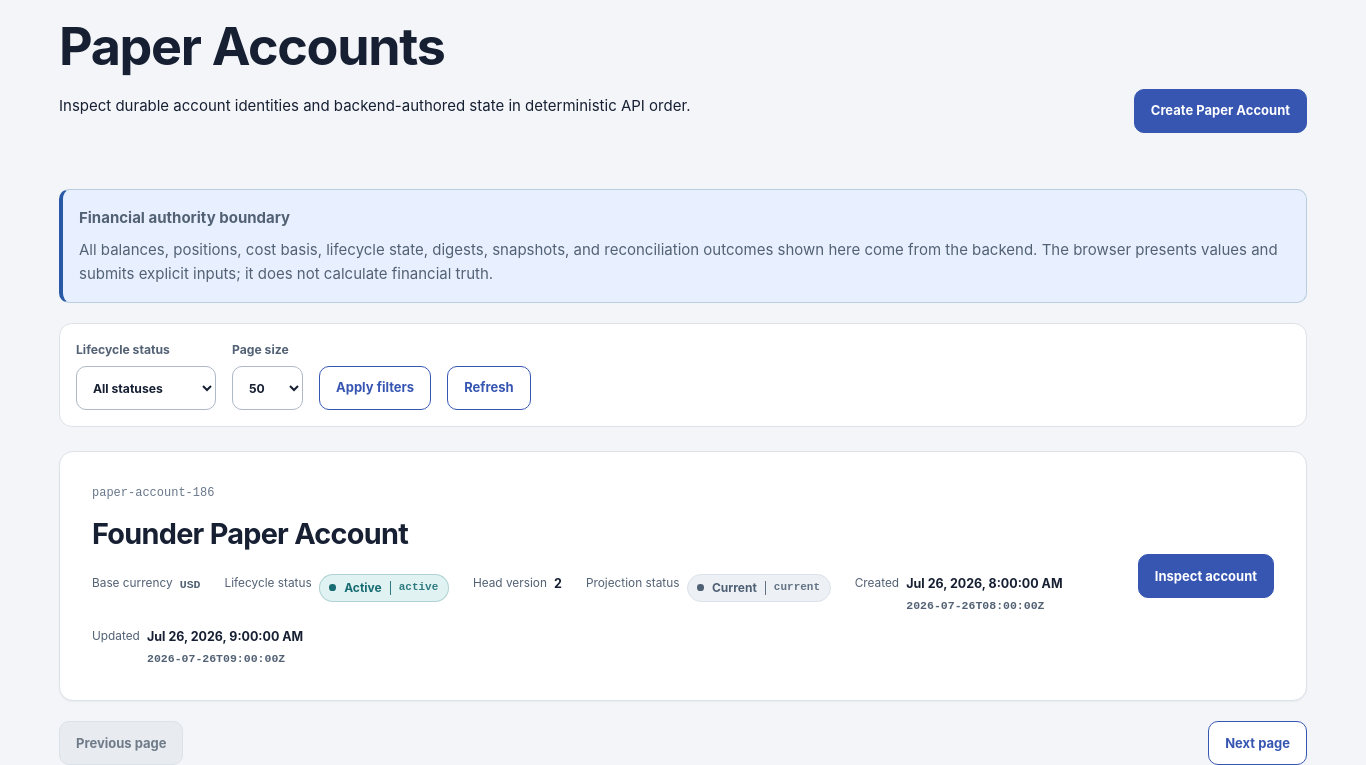
Scenario: Founder Paper Account list and create workspace › renders backend list order and performs explicit opaque-cursor pagination
(page scrolled)
Expected: the heading "Founder Paper Account" is shown, [92,516,408,551]
Click the button "Next page" at (1258, 743), box [1208,721,1307,764]
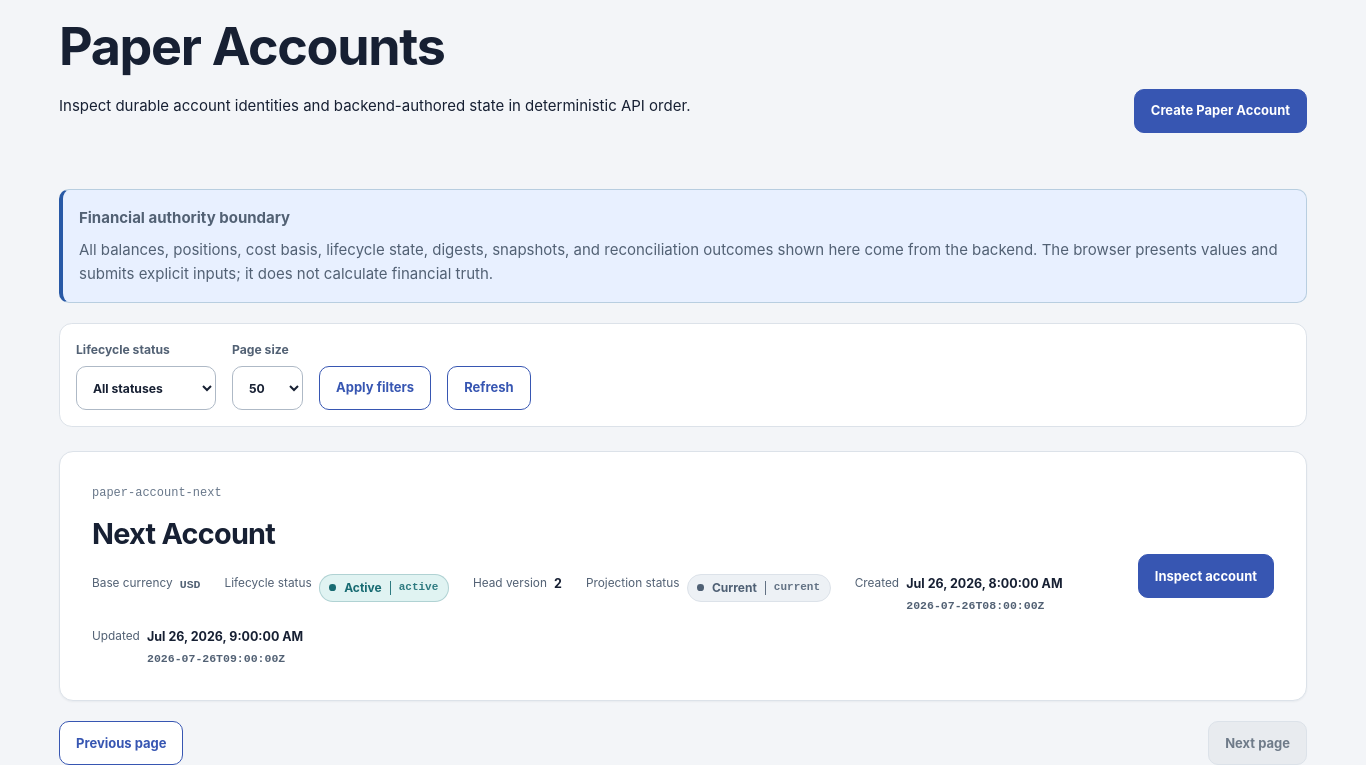
Result: the heading "Next Account" is shown at [92,516,275,551]
